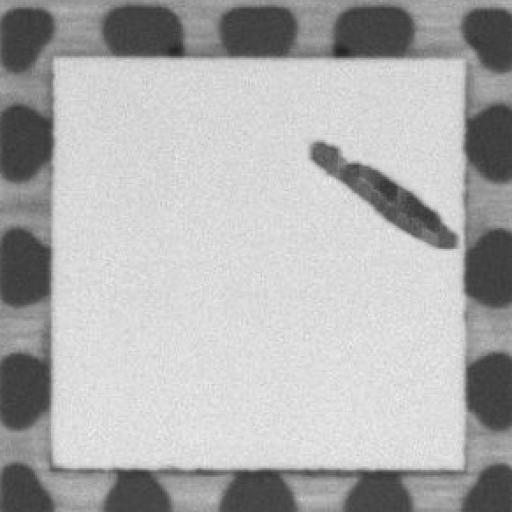DIE_INK: (302, 137, 470, 258)
